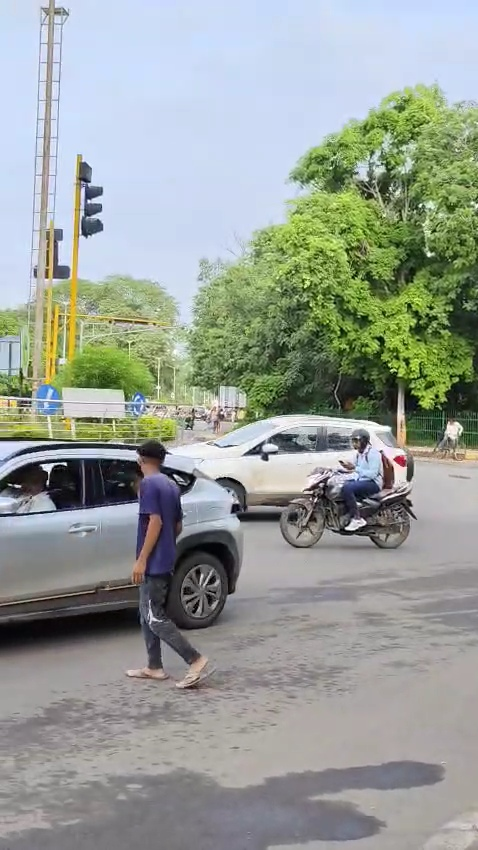BikeWithRider: (272, 423, 424, 554)
Helmet: (345, 426, 374, 454)
